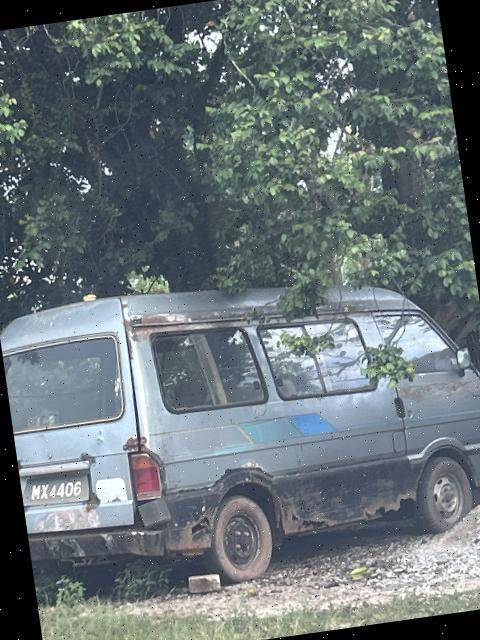License_Plate: (26, 472, 94, 513)
MX4406: (26, 472, 94, 513)
van: (1, 242, 480, 601)
